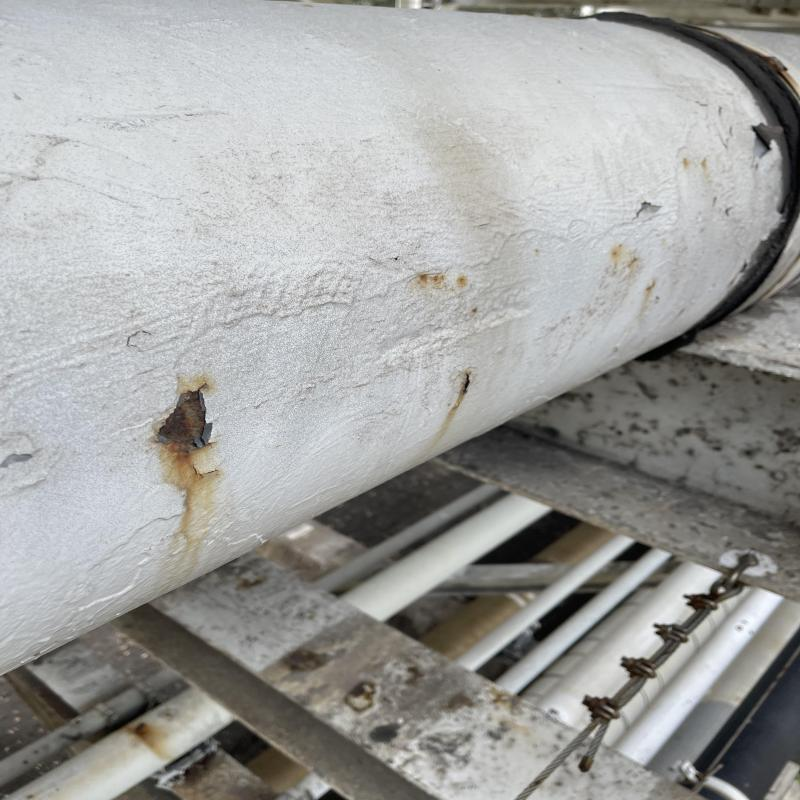corrosion: (167, 397, 217, 452)
